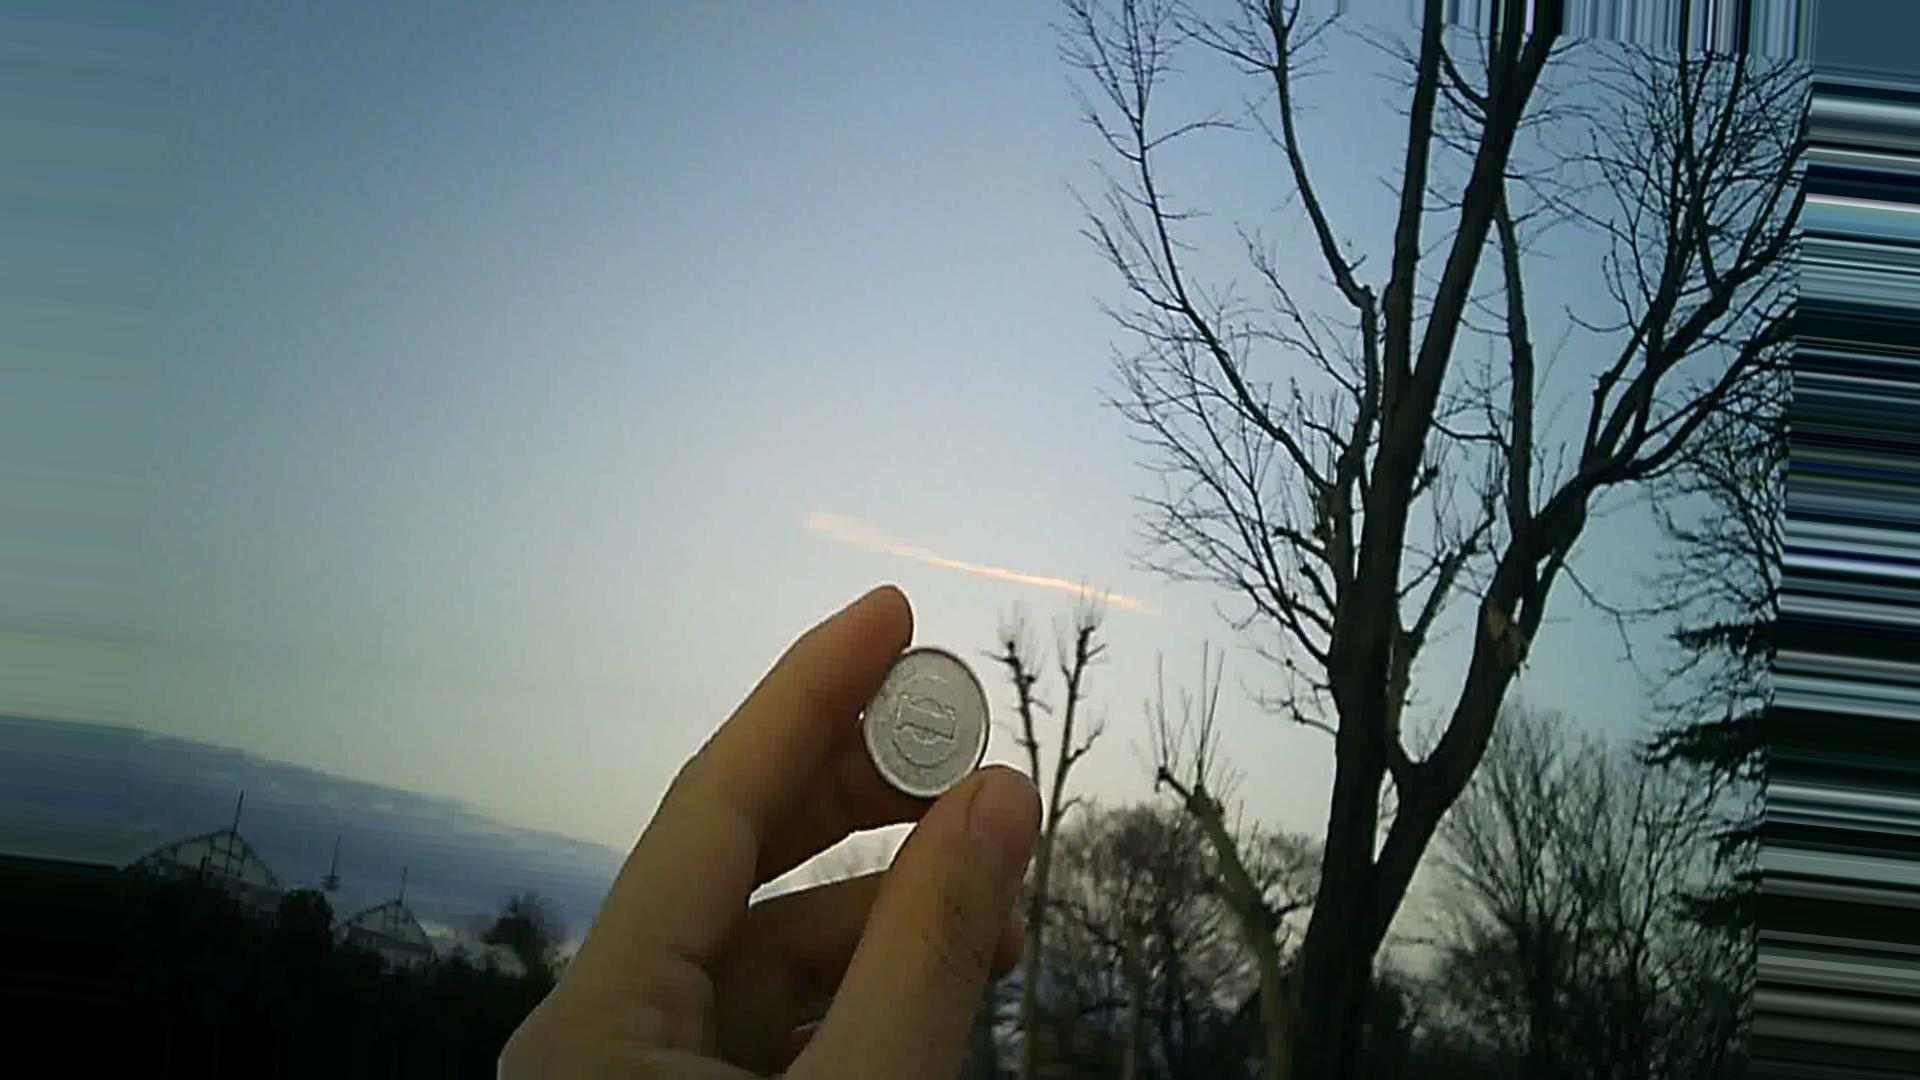1 Yen: (857, 646, 1000, 798)
